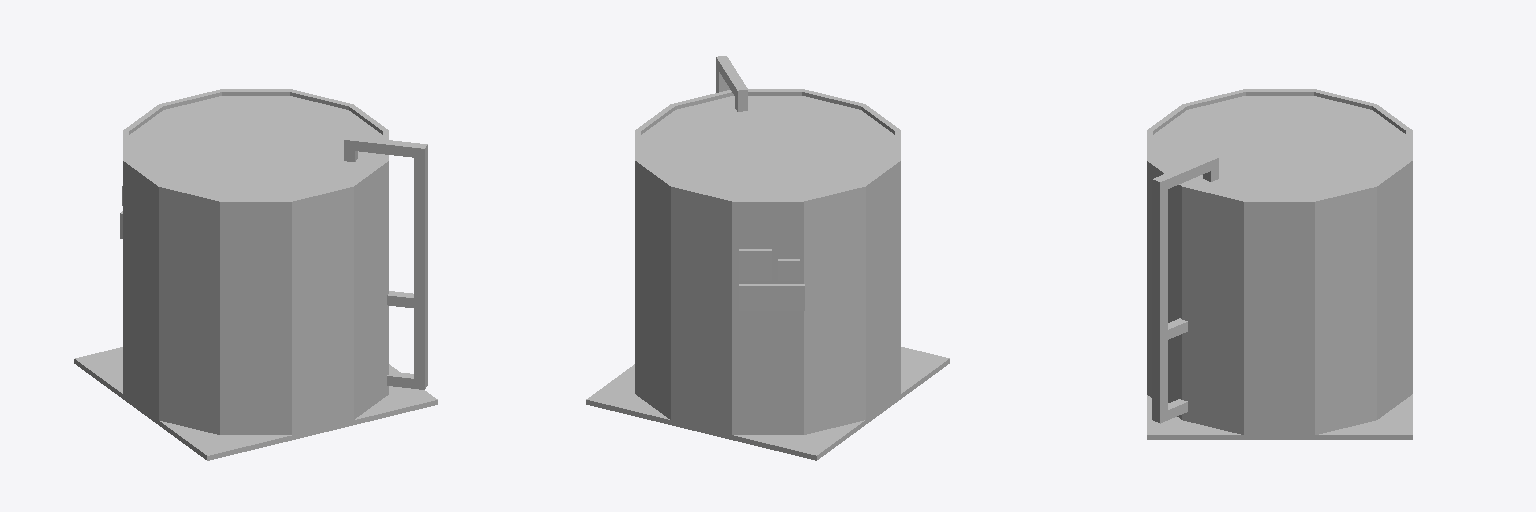
The model's file is fbr_mirrored.obj.
The picture shows the model from 3 angles: view 1: azimuth 30°, elevation 25°; view 2: azimuth 150°, elevation 25°; view 3: azimuth 270°, elevation 25°; orthographic projection.
Visible parts, largest first — view 1: tube, circle, cube; view 2: tube, circle, cube; view 3: tube, circle, cube.
Part boxes in pixels (x1,y1,x2,y2): tube: (123, 89, 388, 436); circle: (129, 96, 382, 198); cube: (74, 135, 437, 460); tube: (635, 89, 900, 437); circle: (641, 96, 894, 198); cube: (586, 56, 949, 460); tube: (1147, 89, 1412, 437); circle: (1153, 96, 1405, 198); cube: (1147, 154, 1412, 439).
Size of the model in its own units: 3 by 3.19 by 3.01.